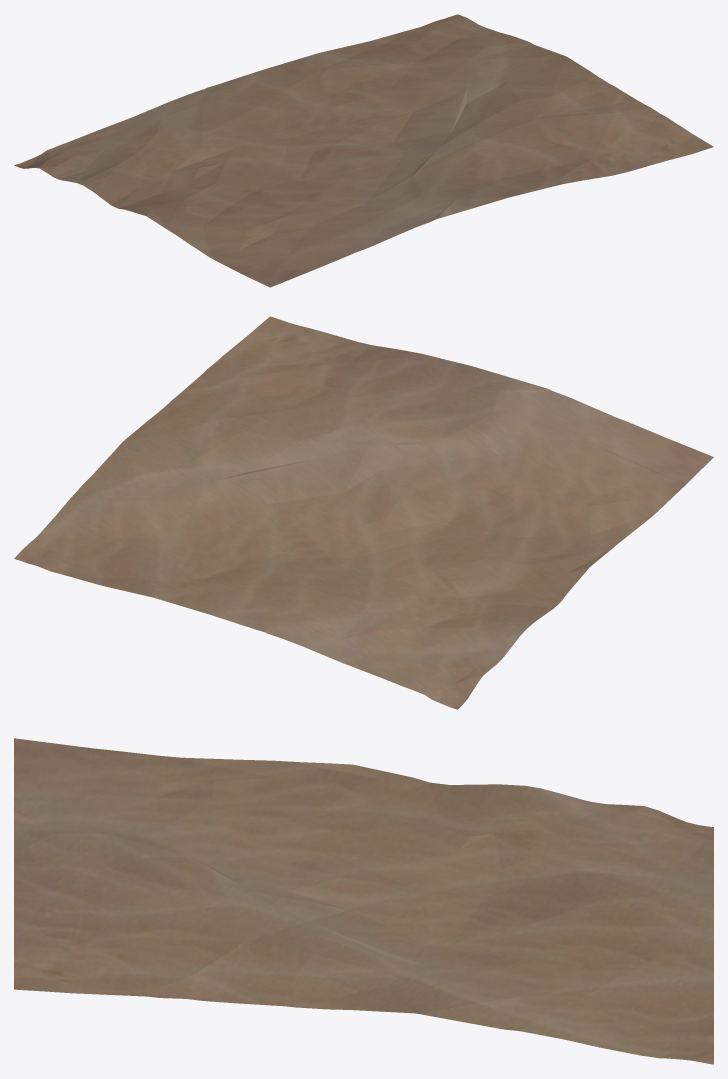
The picture shows the model from 3 angles, top to bottom: view 1: azimuth 30°, elevation 25°; view 2: azimuth 150°, elevation 25°; view 3: azimuth 270°, elevation 25°; orthographic projection. The views are drawn at different scales.
Size of the model in its own units: 1.04 by 0.2193 by 1.04.
2 materials, 2 textured.
